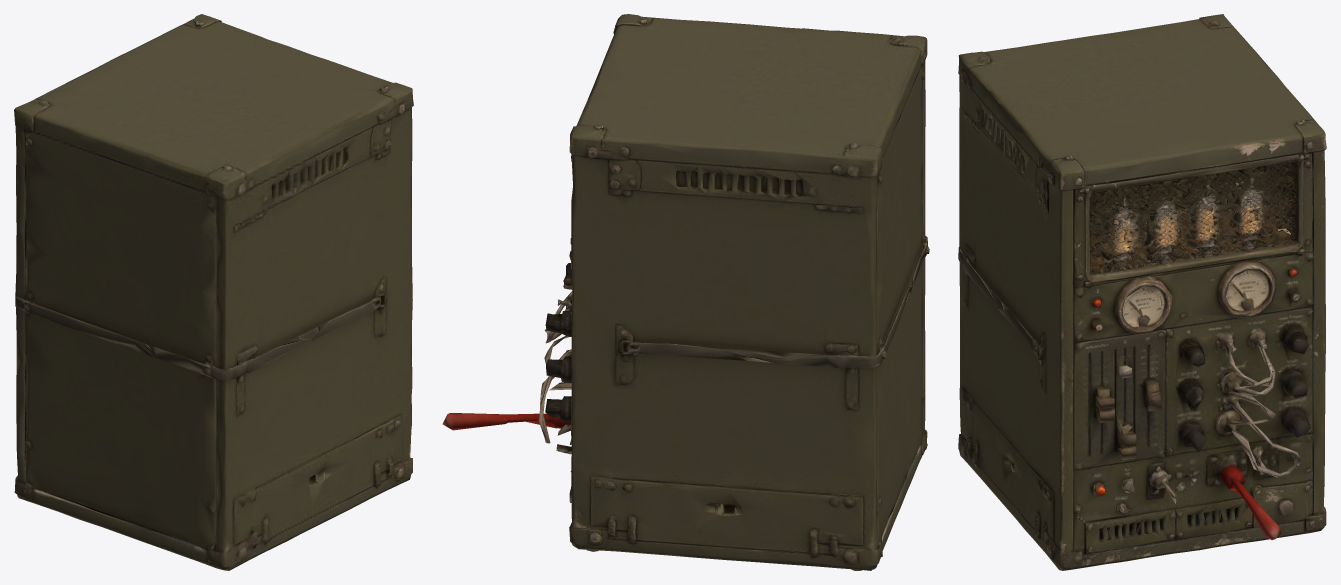
File: prop_s2_emergency_transmitter.glb
3 views of the same model, side by side, from view 1: azimuth 30°, elevation 25°; view 2: azimuth 150°, elevation 25°; view 3: azimuth 270°, elevation 25° (orthographic). The views are drawn at different scales.
Parts seen in each view (by area): view 1: tripo_node_62c6498b-762e-4f85-854b-8cecb965d06a; view 2: tripo_node_62c6498b-762e-4f85-854b-8cecb965d06a; view 3: tripo_node_62c6498b-762e-4f85-854b-8cecb965d06a.
Part boxes in pixels (x1,y1,x2,y2): tripo_node_62c6498b-762e-4f85-854b-8cecb965d06a: [14, 14, 413, 570]; tripo_node_62c6498b-762e-4f85-854b-8cecb965d06a: [442, 14, 929, 570]; tripo_node_62c6498b-762e-4f85-854b-8cecb965d06a: [958, 14, 1326, 570].
Bounding box in the file's own units: 1.01 × 0.9965 × 0.8173.
Materials: 1 (1 with a texture image).
